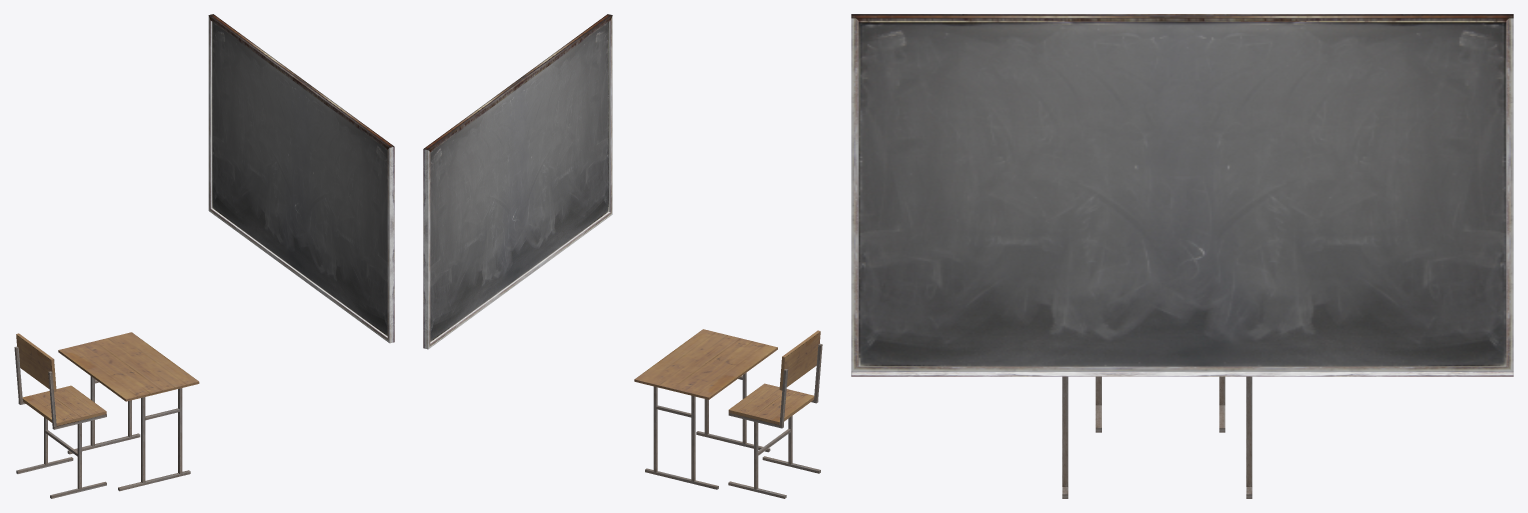
Rendered from School_Furniture.FBX.
3 views of the same model, side by side, from view 1: azimuth 30°, elevation 25°; view 2: azimuth 150°, elevation 25°; view 3: azimuth 270°, elevation 25° (orthographic). The views are drawn at different scales.
Visible parts, largest first — view 1: Blackboard, Desk, Chair; view 2: Blackboard, Desk, Chair; view 3: Blackboard, Desk, Chair.
Boxes of the visible parts, x1,y1,x2,y2 form: Blackboard: (208, 14, 394, 343); Desk: (58, 332, 199, 491); Chair: (14, 333, 106, 498); Blackboard: (423, 14, 612, 349); Desk: (634, 329, 777, 489); Chair: (728, 330, 822, 498); Blackboard: (851, 14, 1513, 376); Desk: (1062, 376, 1252, 498); Chair: (1095, 376, 1225, 432).
Bounding box in the file's own units: 4520 × 5194 × 5104.
